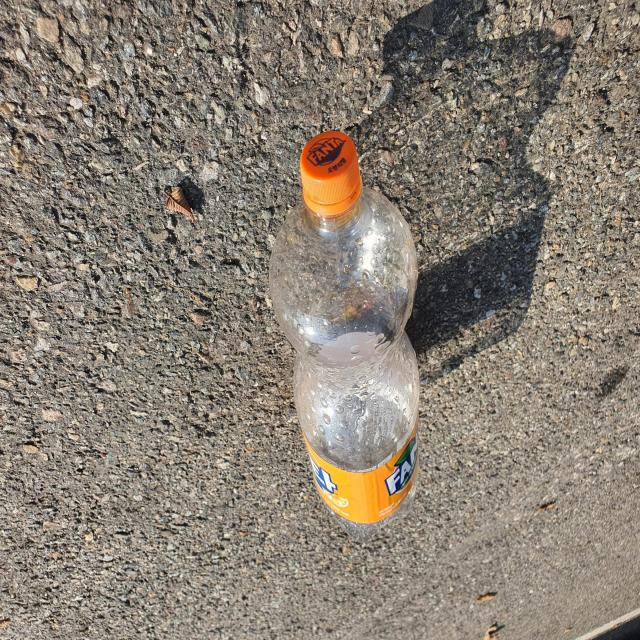plastic: (270, 130, 419, 542)
